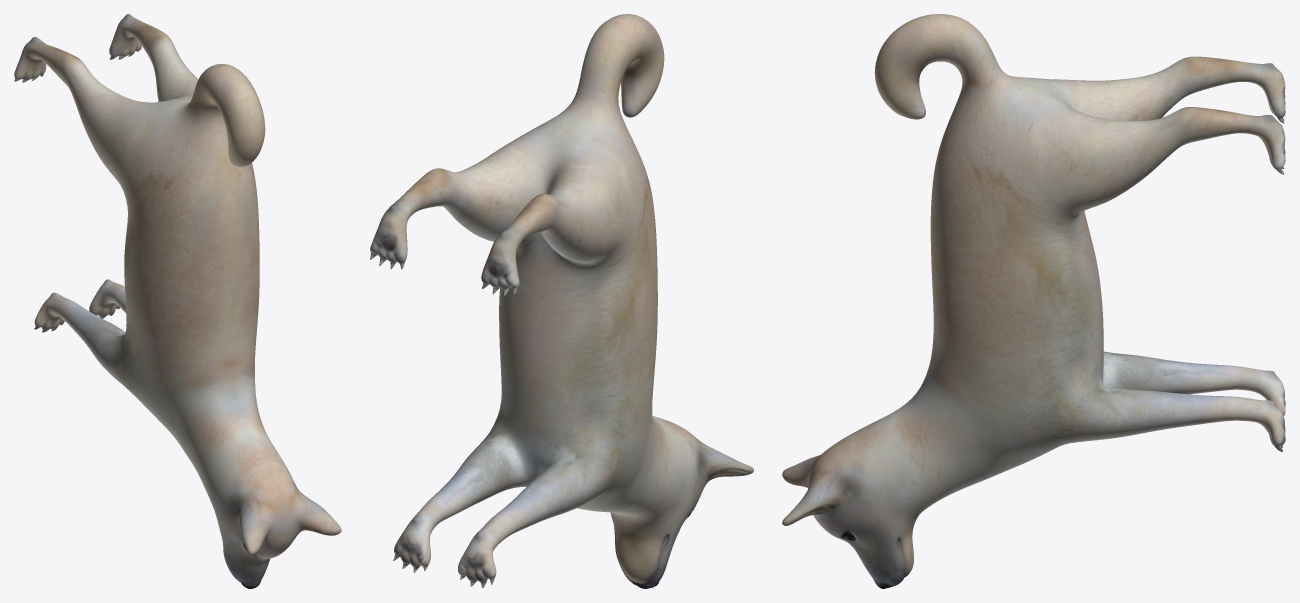
The model's file is 3d puppy.glb.
3 renders of one model, left to right at view 1: azimuth 30°, elevation 25°; view 2: azimuth 150°, elevation 25°; view 3: azimuth 270°, elevation 25°, orthographic. The views are drawn at different scales.
Parts seen in each view (by area): view 1: Canaan_Dog; view 2: Canaan_Dog; view 3: Canaan_Dog.
Part boxes in pixels (bbox=[...]): Canaan_Dog: bbox=[14, 14, 341, 588]; Canaan_Dog: bbox=[370, 14, 753, 588]; Canaan_Dog: bbox=[782, 14, 1285, 588].
Bounding box in the file's own units: 11.51 × 43.75 × 34.92.
Materials: 1 (1 with a texture image).
